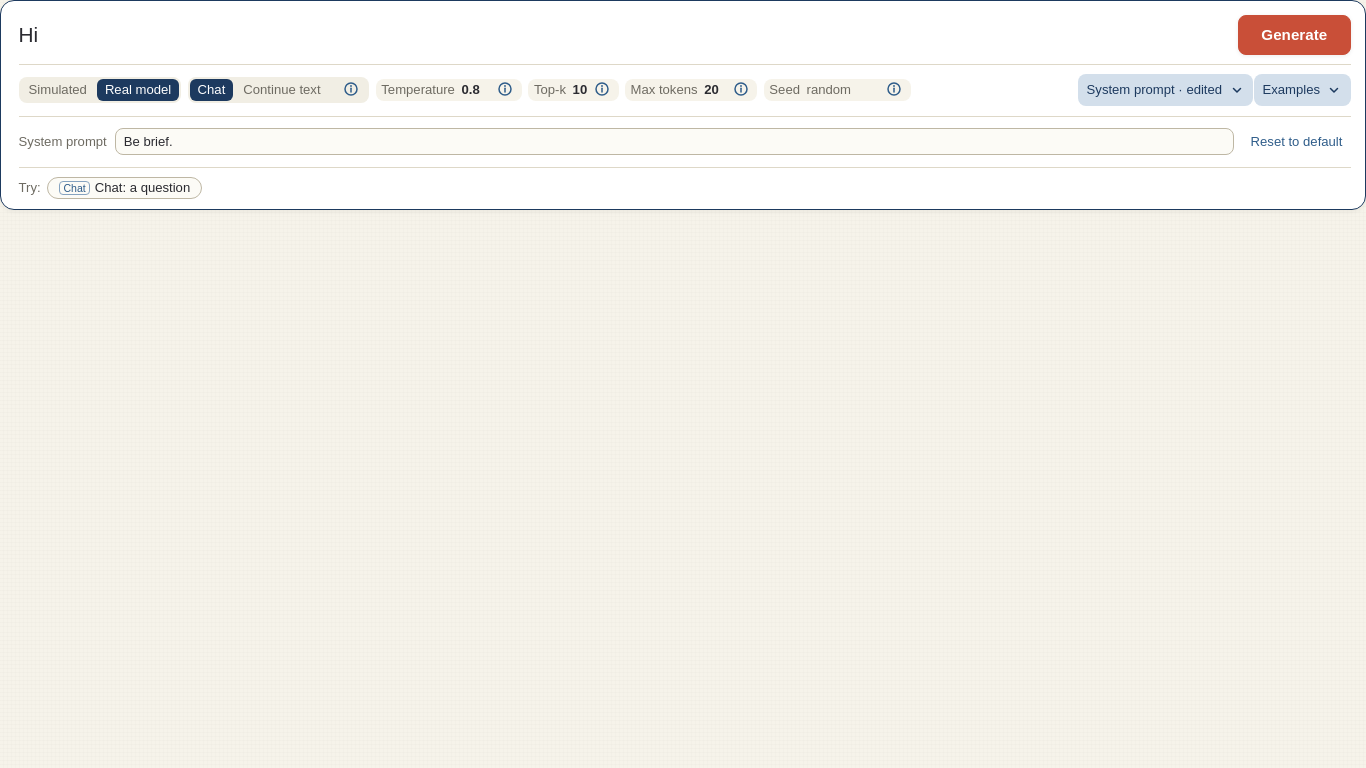
F13: a system row opened by a share link stays open when the chat example resets the prompt
Expected: the element with test id "system-row" is shown, [19,116,1351,157]
Click the button with test id "example-chip".
click(125, 188)  # box [47,177,202,199]
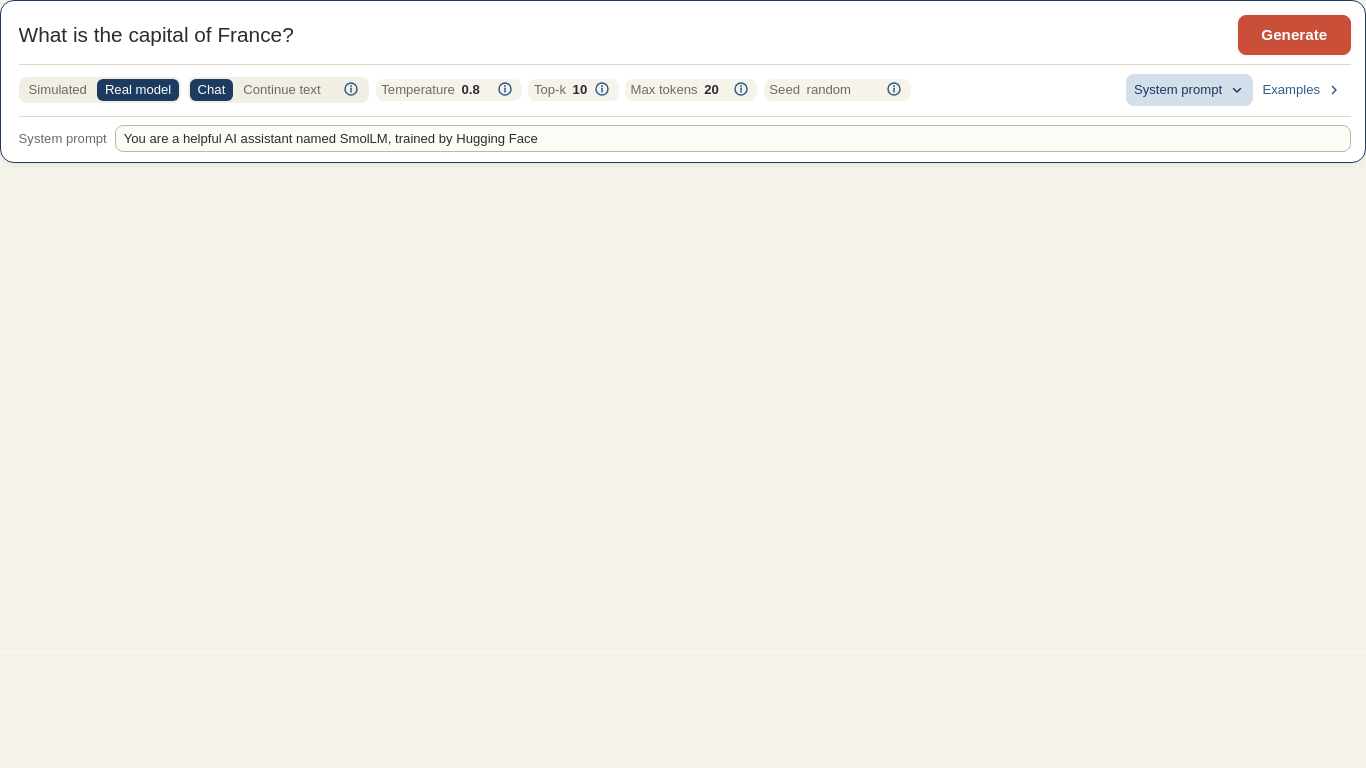
Expected: the element with test id "system-row" is shown, [19,116,1351,152]
Now the field with test id "system-input" holds "You are a helpful AI assistant named SmolLM, trained by Hugging Face", box [115,125,1351,152]
